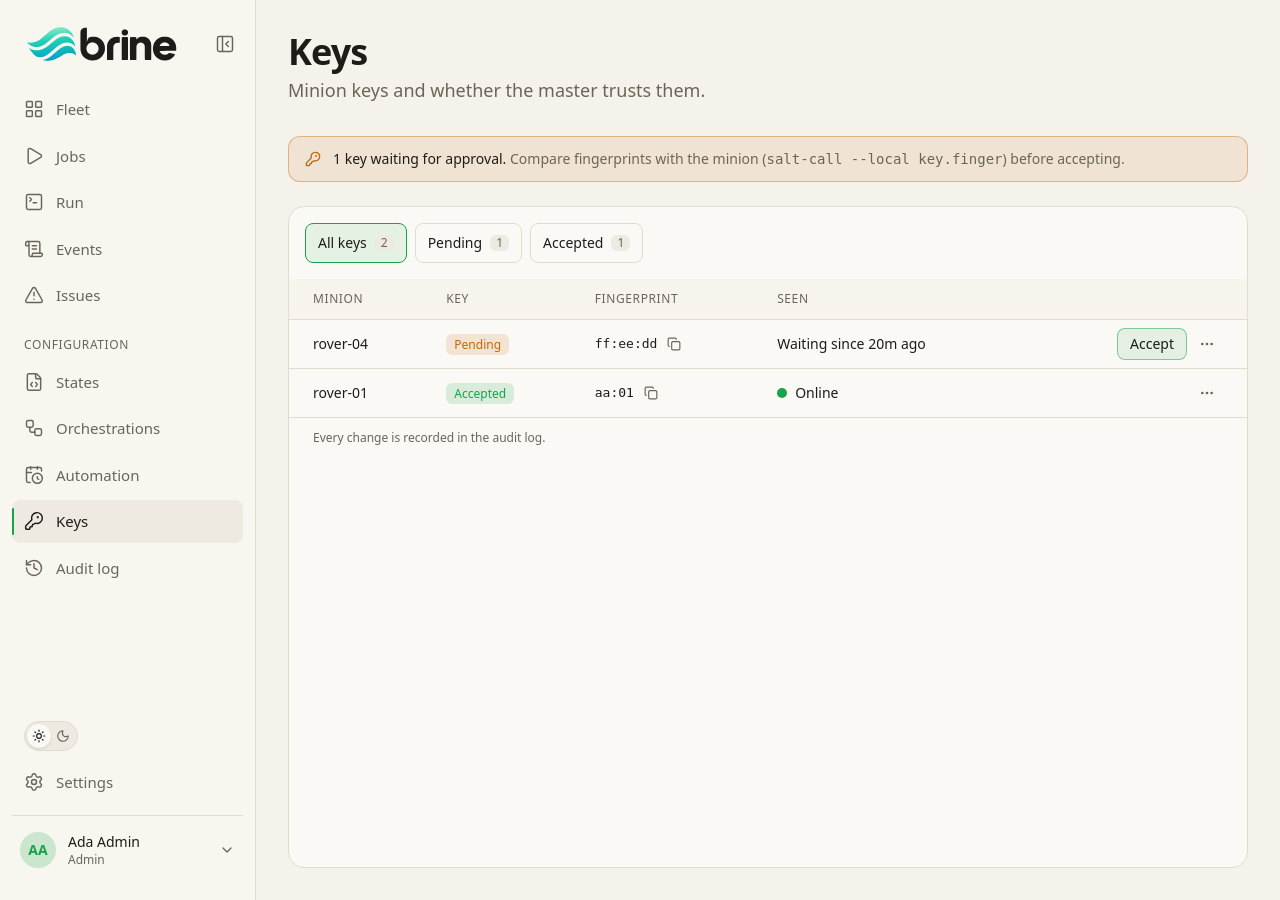
Test: key management › deletes only after the name is typed
The width and height of the screenshot is (1280, 900).
Click the button named "More actions for rover-01" at (1207, 393), box [1191,377,1223,409]
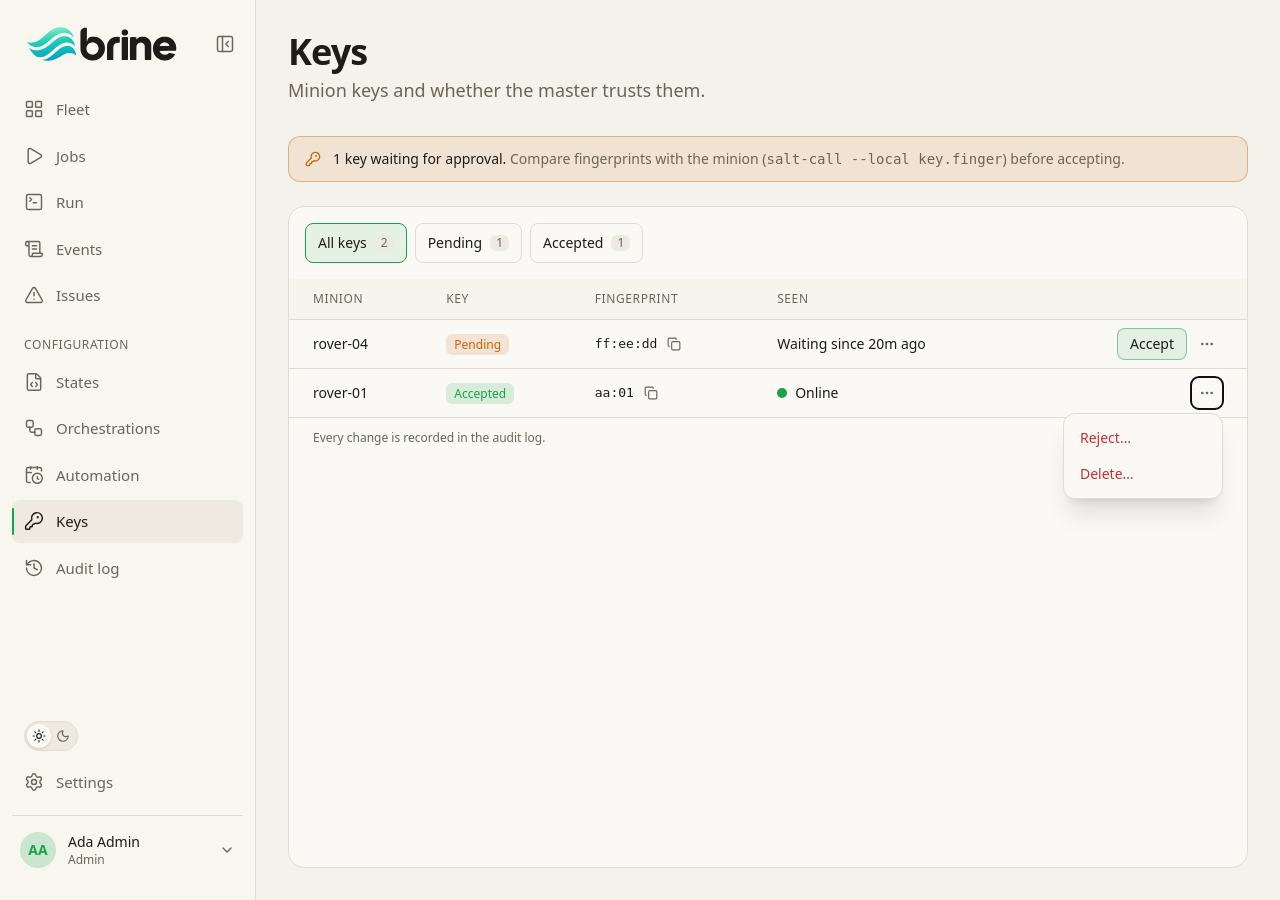
Click the menu item "Delete…" at (1143, 474), box [1070,456,1216,492]
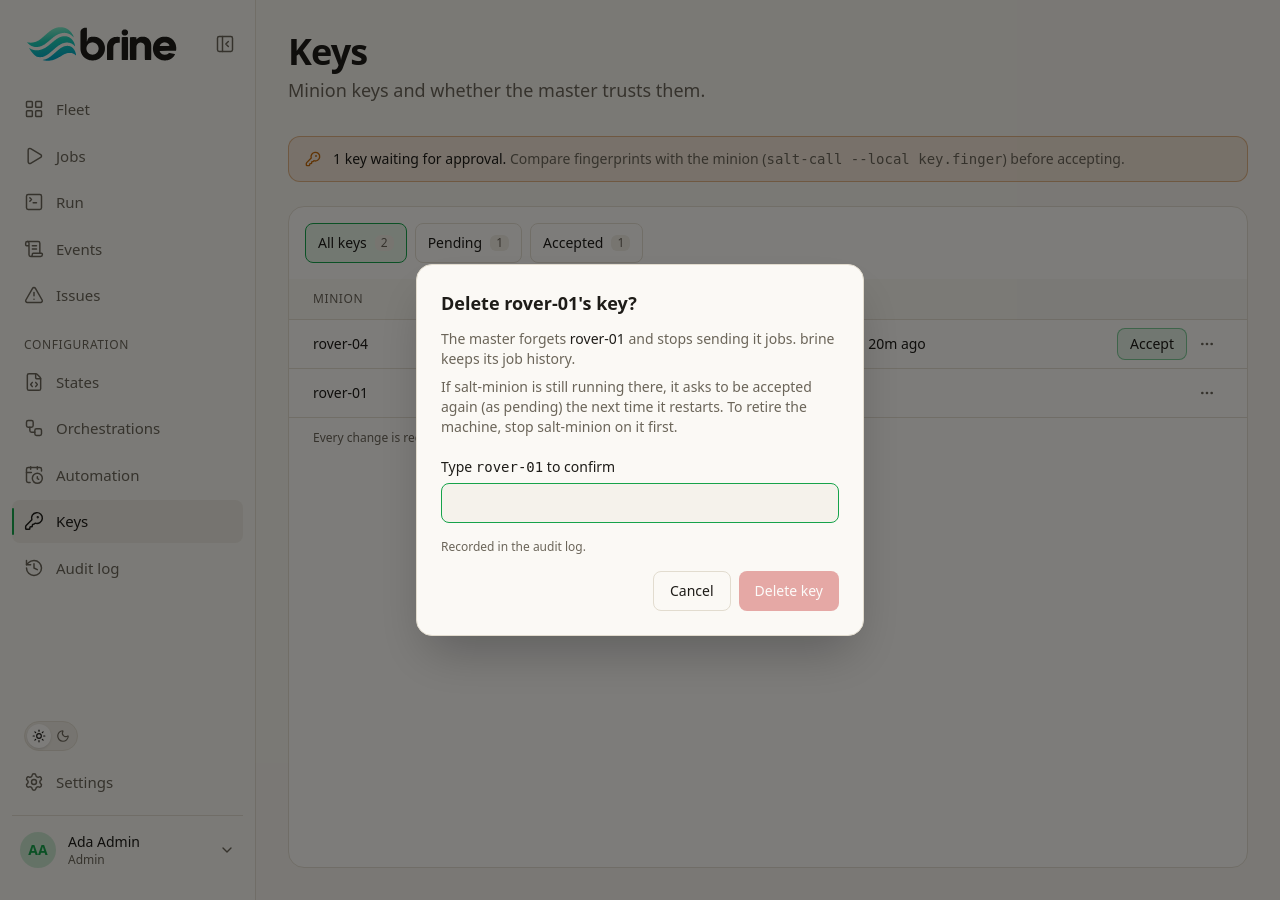
expect the dialog "Delete rover-01's key?" shows "stop salt-minion on it first": met, box [441,377,812,436]
Type "rover-0" into the field labelled "Type rover-01 to confirm" at (640, 503), box [441,483,839,523]
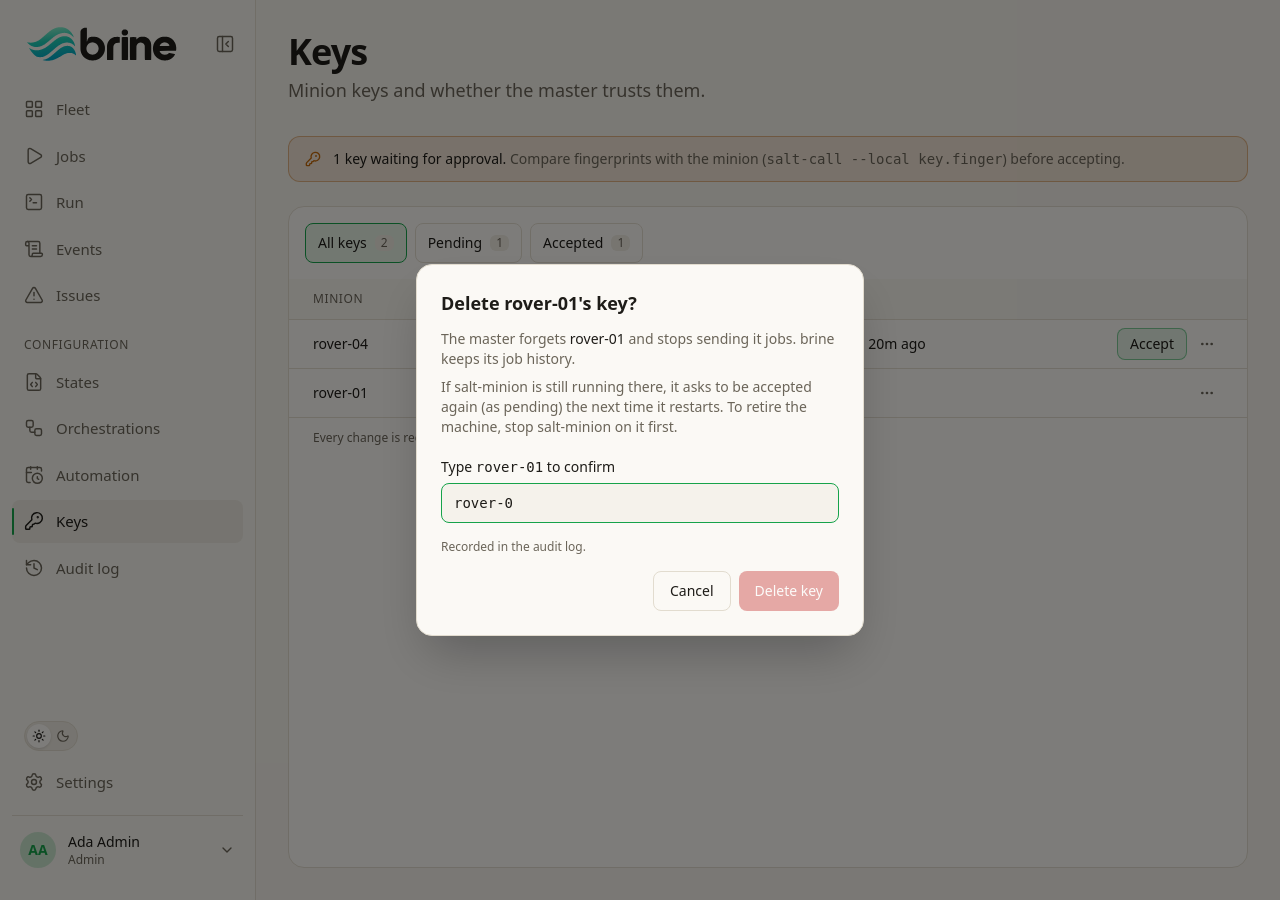
expect the button "Delete key" is disabled: met, box [738,571,839,611]
Type "1" into the field labelled "Type rover-01 to confirm" at (640, 503), box [441,483,839,523]
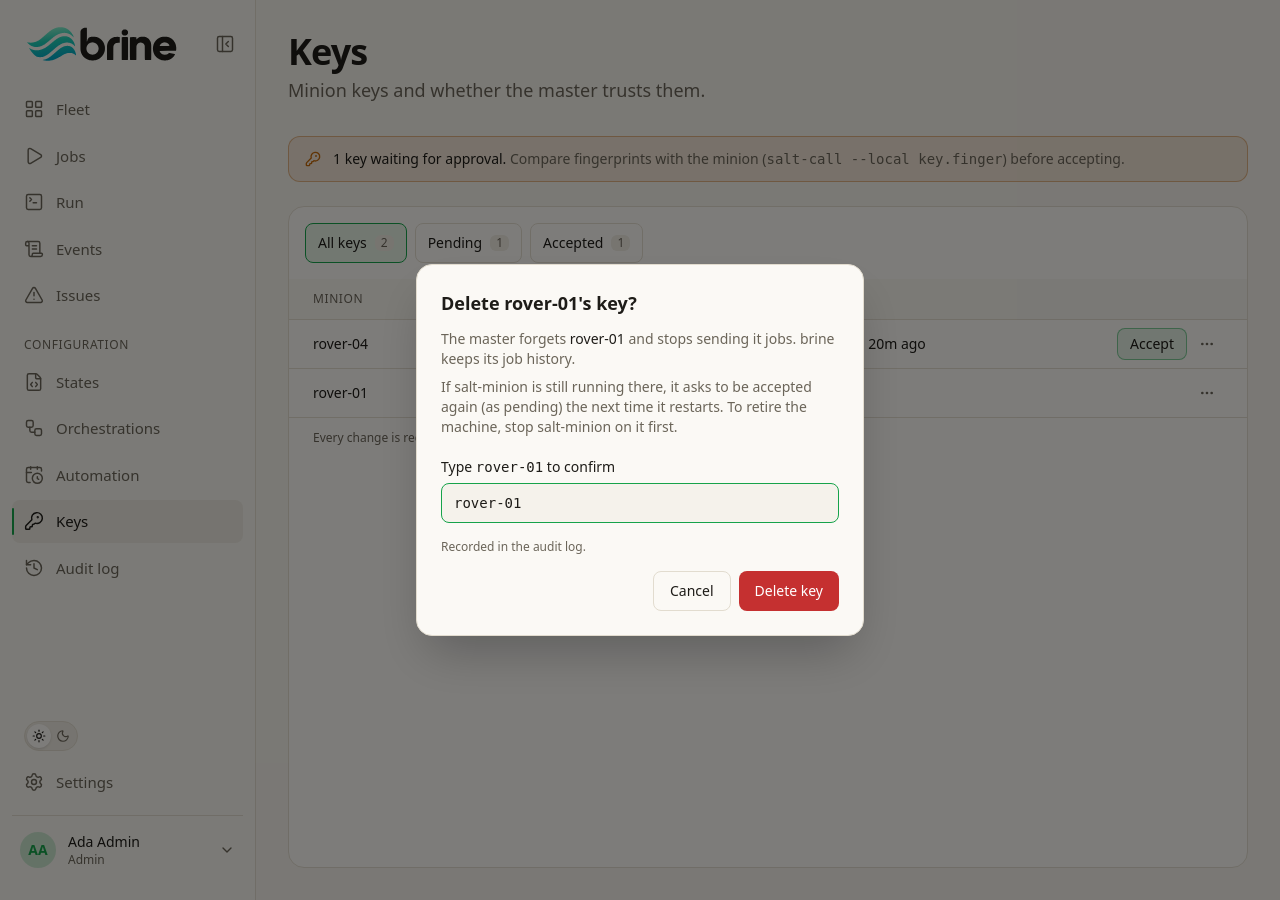
Click the button "Delete key" at (789, 591), box [738,571,839,611]
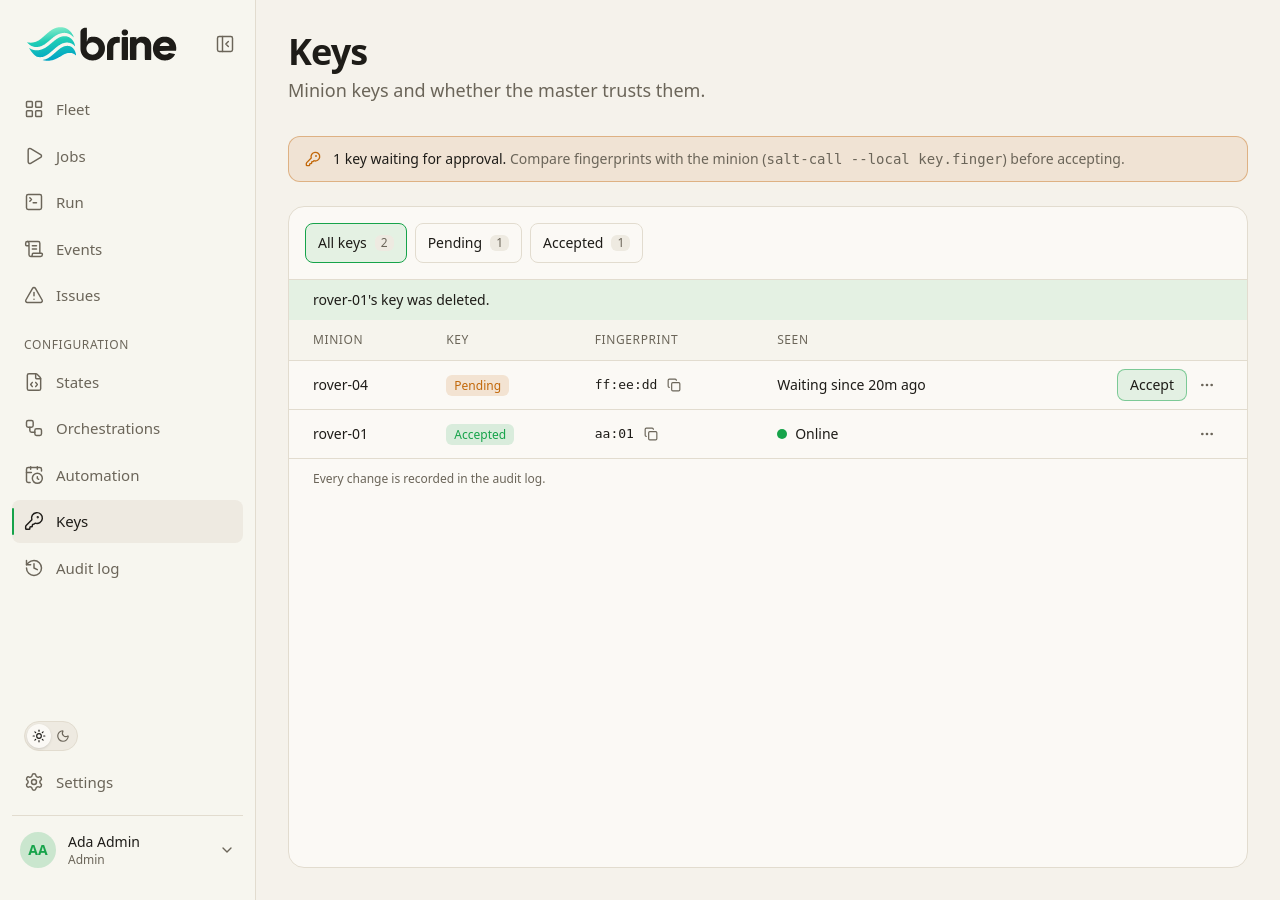
expect the message reads "rover-01's key was deleted.": met, box [313,290,490,309]
